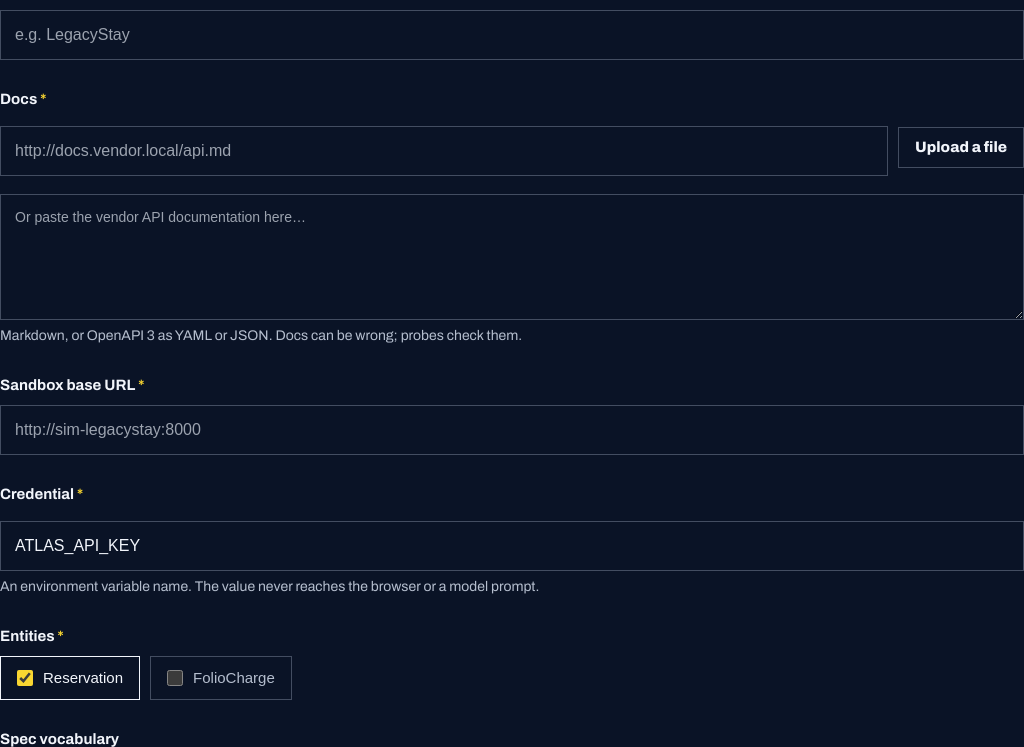
Test case: NewConnectorForm › shows partial success when build fails after create
The width and height of the screenshot is (1024, 747).
Type "Partial" into the field with test id "input-name" at (512, 34), box [0,10,1023,60]
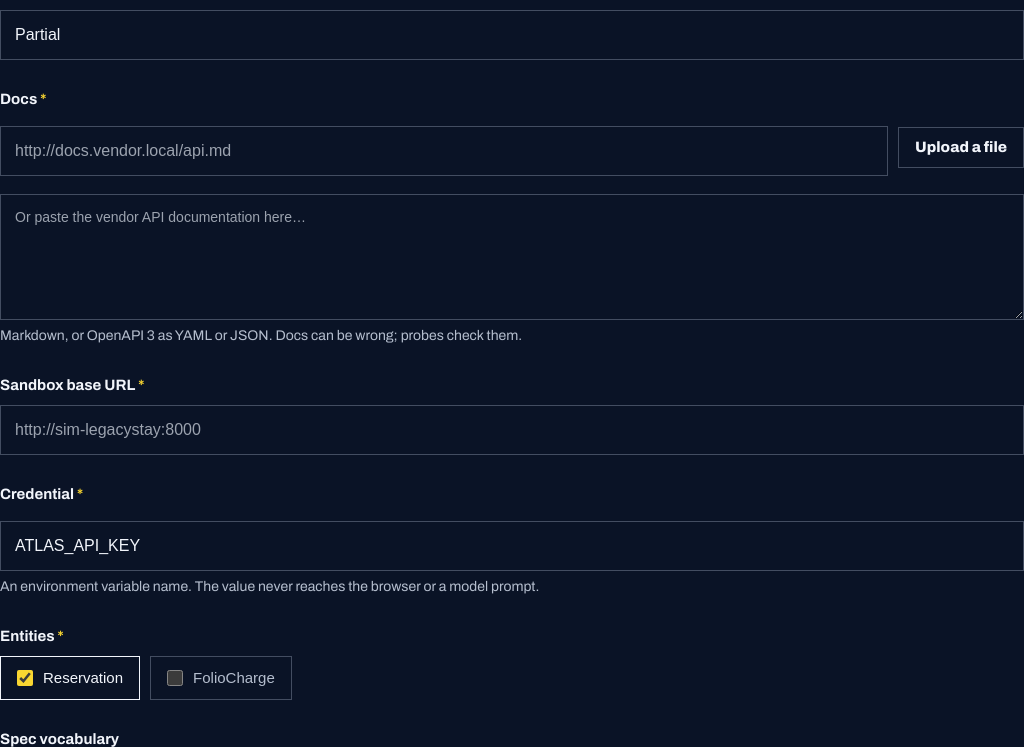
Type "http://sim-atlas:8000" into the field with test id "input-base-url" at (512, 430), box [0,404,1023,454]
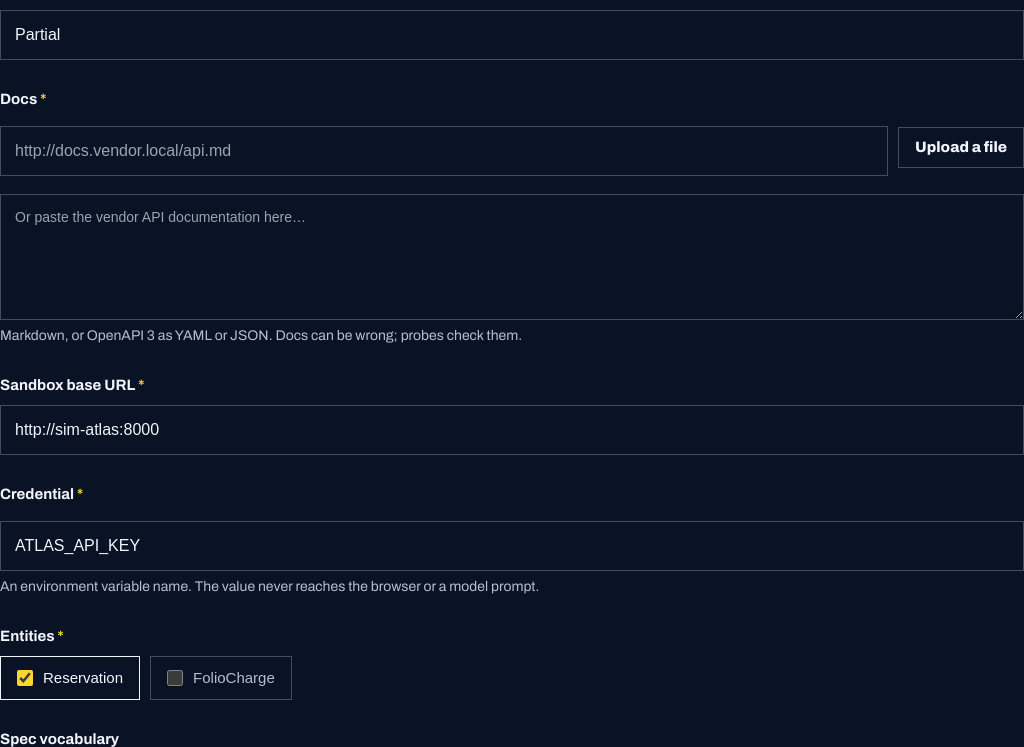
Type "docs" into the text box with test id "input-docs-text" at (512, 257), box [0,194,1023,320]
(page scrolled)
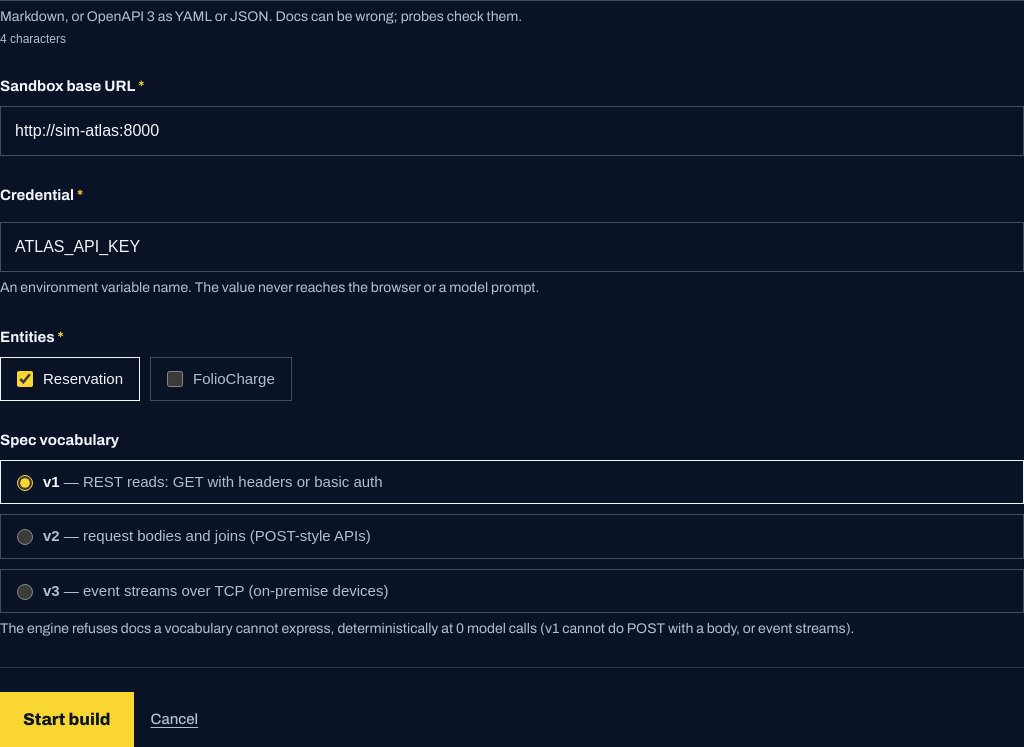
Click the button with test id "submit-build" at (67, 720), box [0,692,134,746]
(page scrolled)
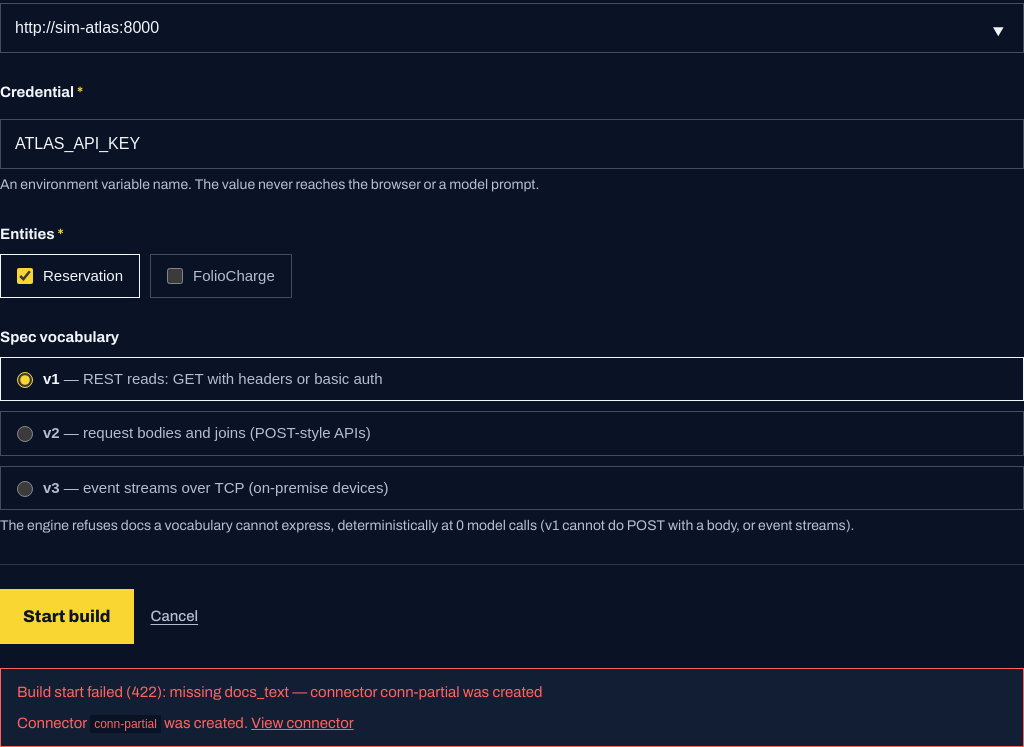
Now the element with test id "submit-error" is shown, box [0,668,1023,746]
Now the element with test id "submit-error" shows "conn-partial", box [94,716,157,730]
